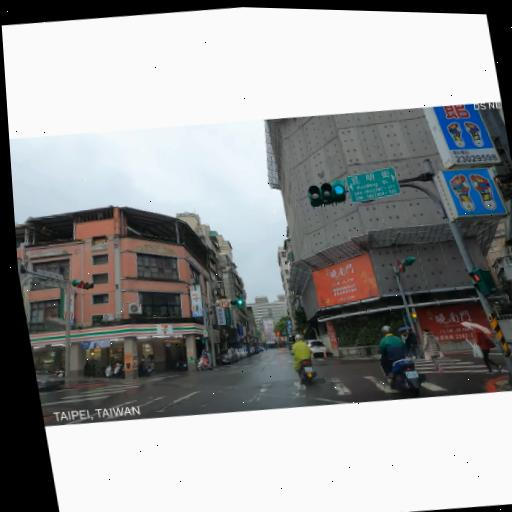Car: (35, 366, 68, 394), (302, 336, 331, 359), (218, 344, 238, 366), (227, 348, 243, 363), (232, 346, 247, 360), (236, 343, 252, 356)
